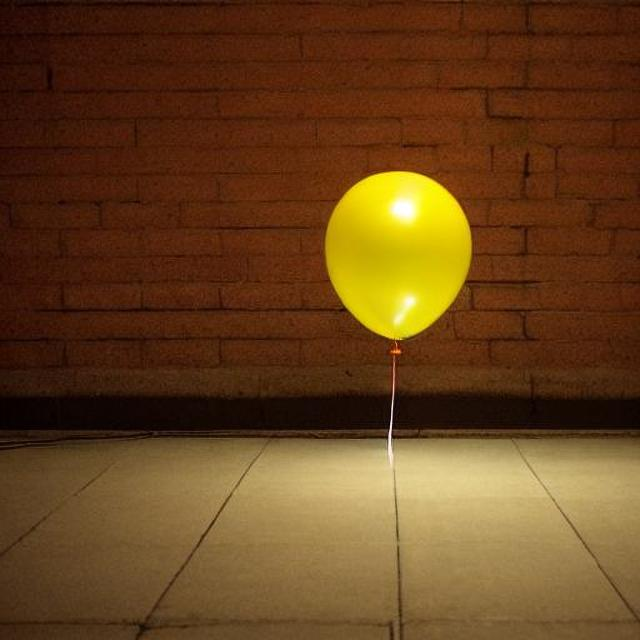balloon: (318, 166, 472, 348)
